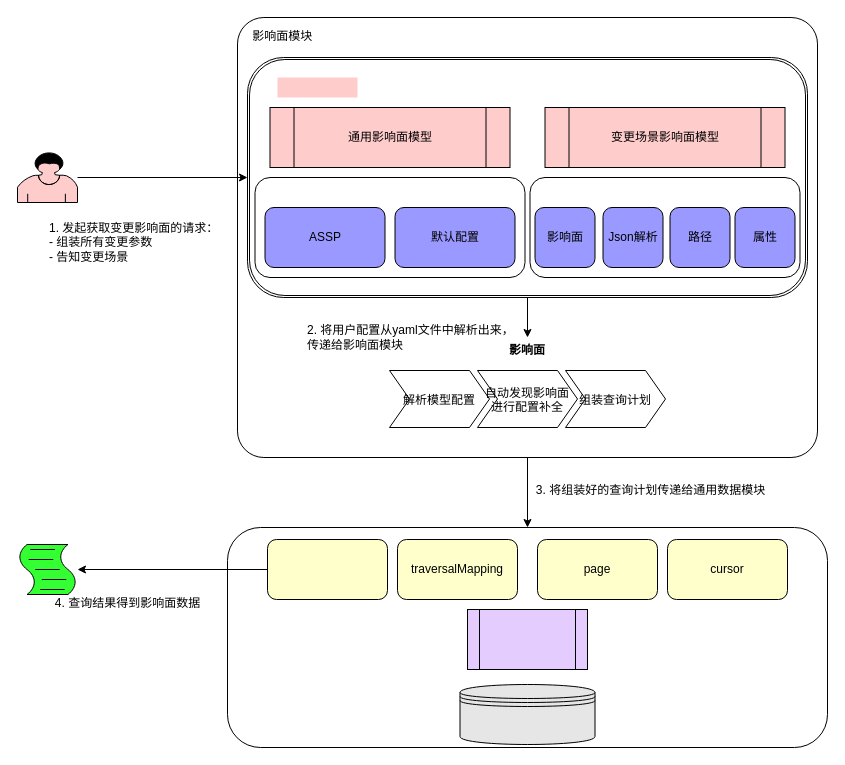
This 845x765 diagram has some shape labels left out. The box of each missing label's shape, as (x1, y1, x2, y2) in pixels:
lindorm: (459, 684, 595, 744)
traversal: (266, 538, 388, 600)
人工配置影响面: (529, 176, 800, 278)
影响面模型: (277, 77, 357, 97)
自动发现影响面: (254, 176, 525, 278)
通用数据模块: (466, 608, 588, 670)
